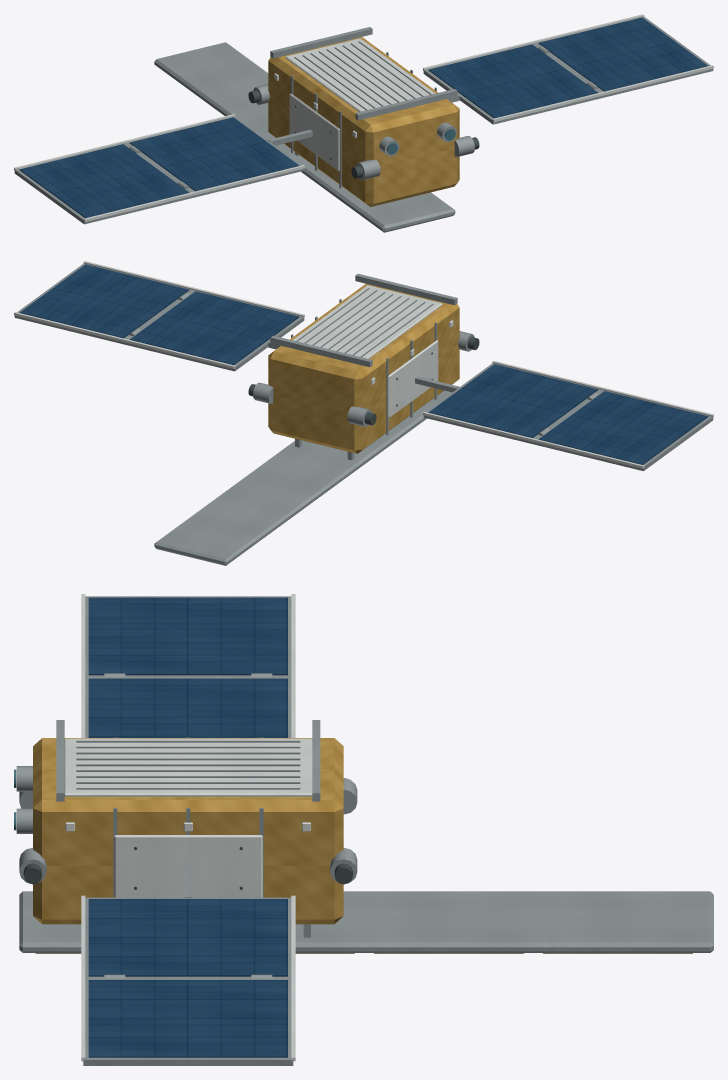
The model's file is SarSatelliteRig.fbx.
3 renders of one model, top to bottom at view 1: azimuth 30°, elevation 25°; view 2: azimuth 150°, elevation 25°; view 3: azimuth 270°, elevation 25°, orthographic. The views are drawn at different scales.
Parts seen in each view (by area): view 1: Bus_RigMesh, SolarPort_RigMesh, SolarStarboard_RigMesh, RadarBoom_RigMesh; view 2: Bus_RigMesh, SolarPort_RigMesh, SolarStarboard_RigMesh, RadarBoom_RigMesh; view 3: Bus_RigMesh, SolarStarboard_RigMesh, SolarPort_RigMesh, RadarBoom_RigMesh.
Boxes of the visible parts, x1,y1,x2,y2 form: Bus_RigMesh: (248,27,479,206); SolarPort_RigMesh: (14,114,312,224); SolarStarboard_RigMesh: (423,14,713,124); RadarBoom_RigMesh: (154,42,455,232); Bus_RigMesh: (248,273,479,453); SolarPort_RigMesh: (415,361,713,471); SolarStarboard_RigMesh: (14,261,304,371); RadarBoom_RigMesh: (154,390,451,565); Bus_RigMesh: (14,720,357,924); SolarStarboard_RigMesh: (81,866,295,1065); SolarPort_RigMesh: (81,594,295,737); RadarBoom_RigMesh: (19,891,713,953).
Bounding box in the file's own units: 1200 × 210 × 766.
